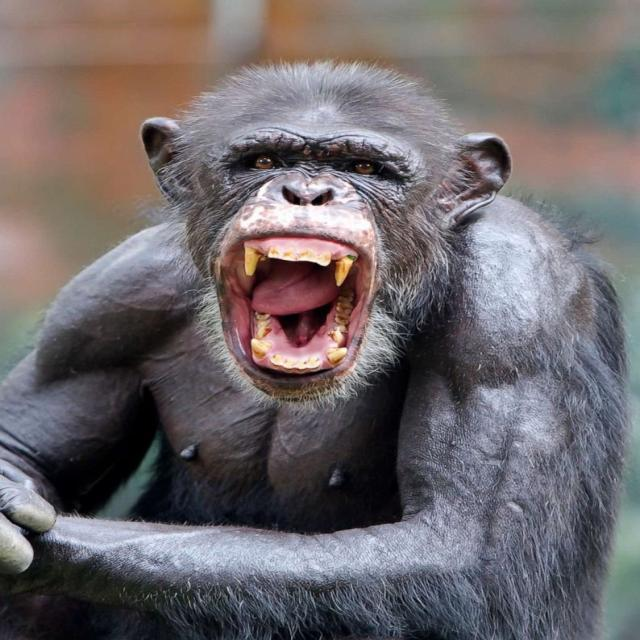Chimpanzee: (2, 62, 640, 640)
